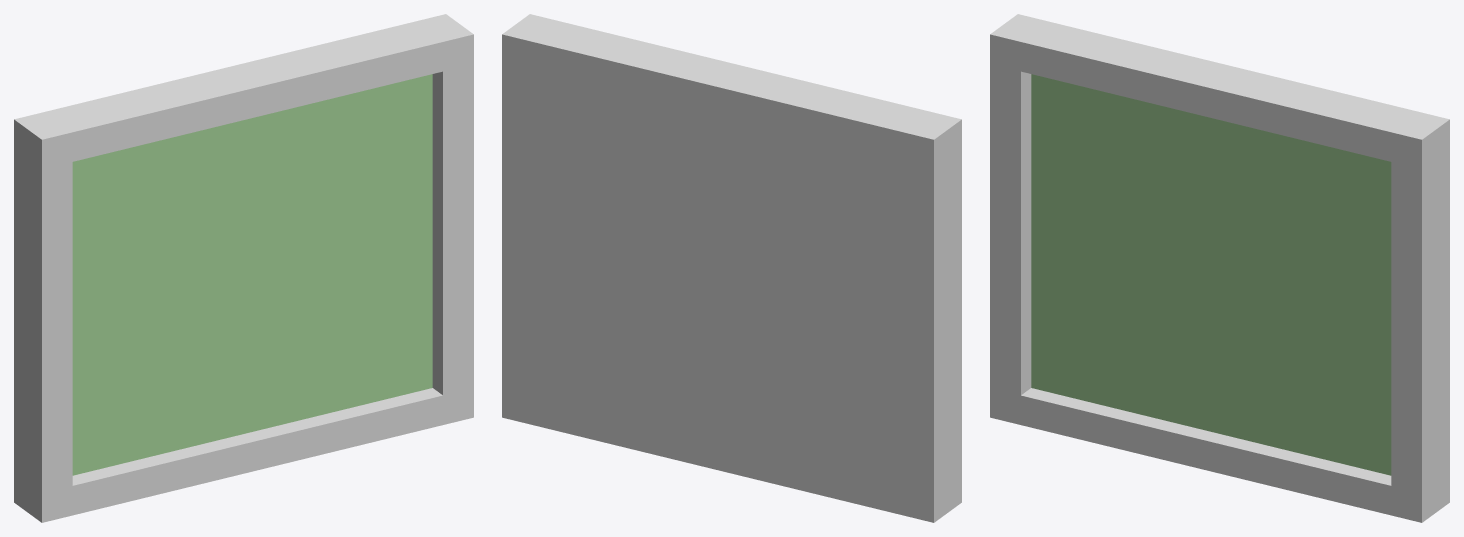
The model's file is Picture_07_dra.glb.
The picture shows the model from 3 angles, left to right: view 1: azimuth 30°, elevation 25°; view 2: azimuth 150°, elevation 25°; view 3: azimuth 330°, elevation 25°; orthographic projection.
Parts seen in each view (by area): view 1: Picture_07; view 2: Picture_07; view 3: Picture_07.
Boxes of the visible parts, x1,y1,x2,y2 form: Picture_07: (14,14,473,522); Picture_07: (502,14,961,522); Picture_07: (990,14,1449,522).
Size of the model in its own units: 0.3842 by 0.3257 by 0.043.
1 material, 1 textured.
